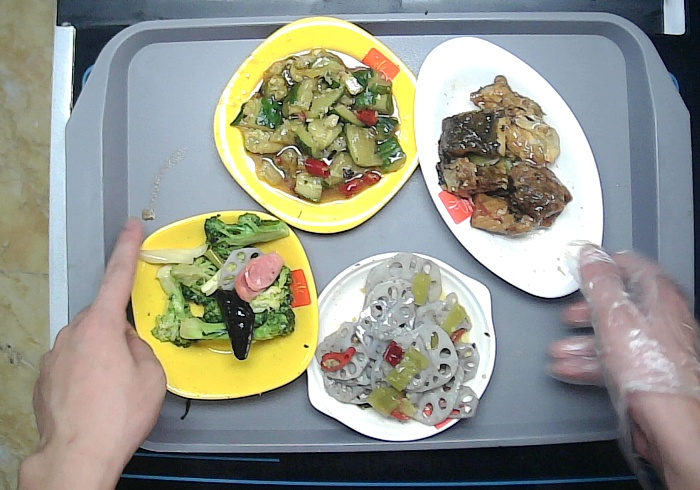SHKJ-Bao_Yu_Pan: (302, 248, 501, 445)
SHKJ-Huang_Se_Cai_Die: (126, 207, 322, 404)
SHKJ-Huang_Se_Si_Fang_Cai_Die: (209, 13, 427, 238)
SHKJ-Yu_Pan: (412, 33, 606, 301)
